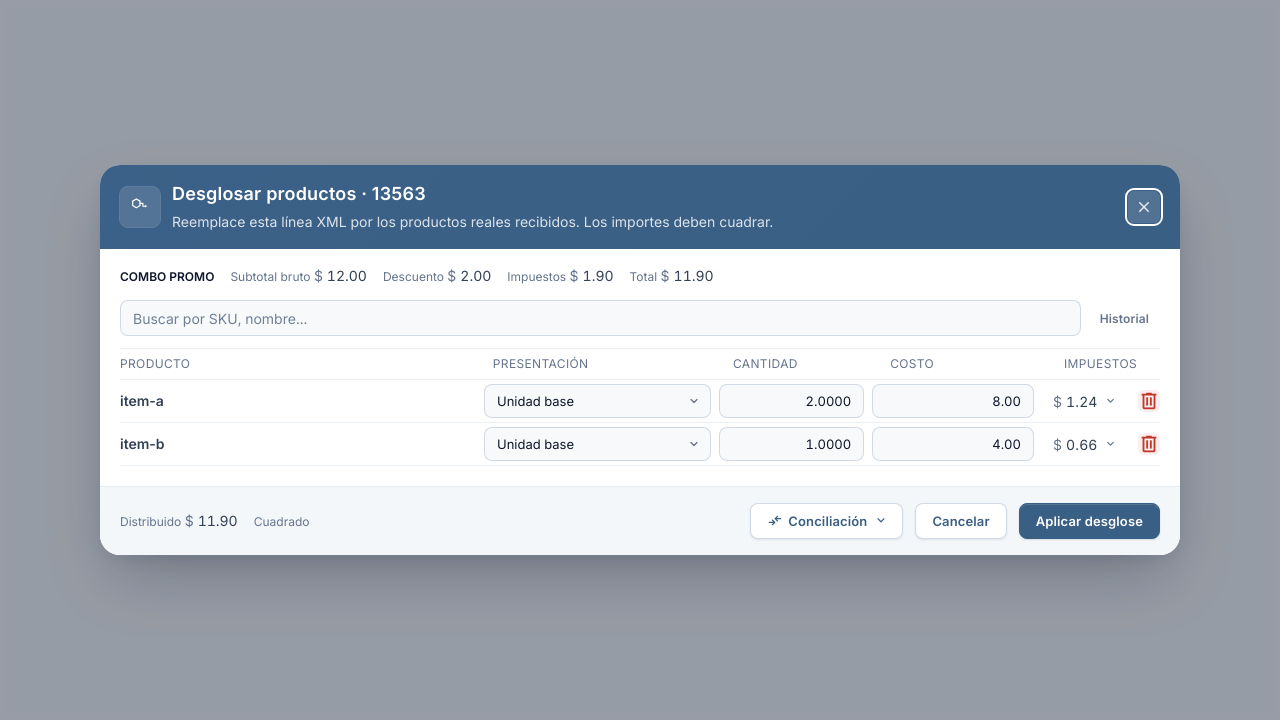
Scenario: PurchaseLineBreakdownModal › shows compact rows with presentation, quantity and cost; taxes only on demand
The width and height of the screenshot is (1280, 720).
Expected: the dropdown named "Presentación · item-a" is shown, [484,384,710,418]
Expected: the field named "Cantidad · item-a" is shown, [718,384,864,418]
Click the button named "Impuestos y bases · item-a".
click(1085, 401)  # box [1042,388,1129,414]
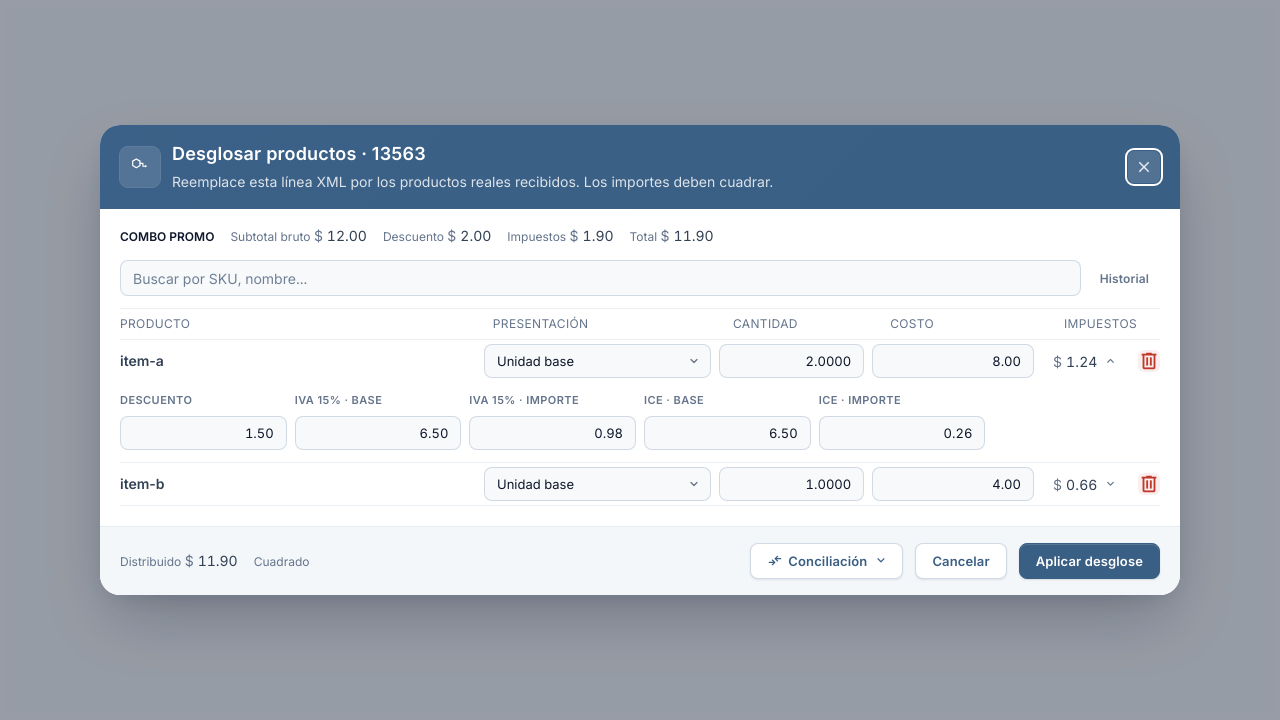
Expected: the button named "Impuestos y bases · item-a" is expanded, [1042,348,1129,374]
Expected: the field named "IVA 15% · Importe · item-a" is shown, [469,416,636,450]
Expected: the field named "Descuento · item-a" is shown, [120,416,287,450]
